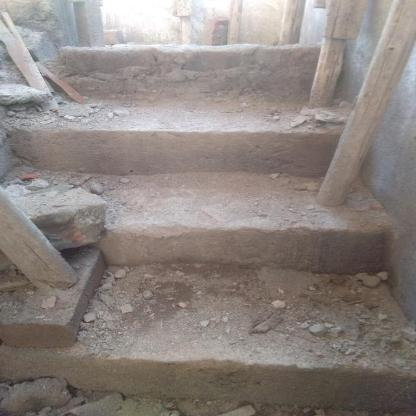stair: (22, 24, 416, 409)
